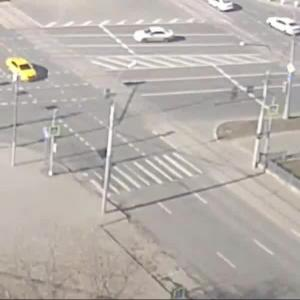car: (124, 28, 180, 46), (6, 57, 41, 85), (261, 15, 300, 38), (205, 1, 234, 14)
